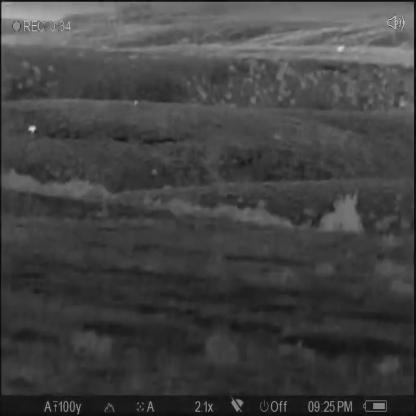rehkitze: (27, 125, 40, 138)
